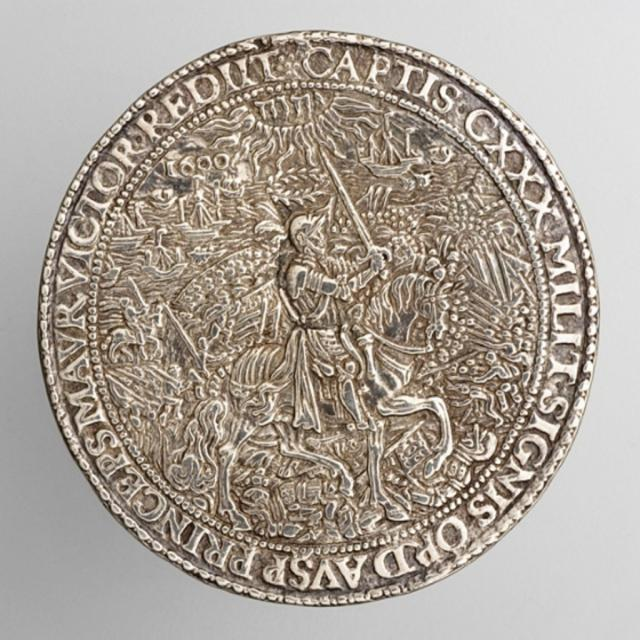Coin: (34, 30, 602, 609)
